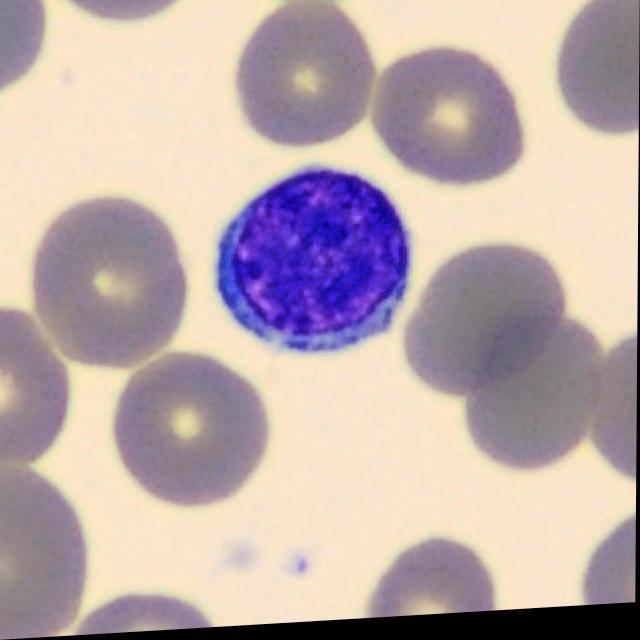Linfocito: (219, 174, 405, 355)
